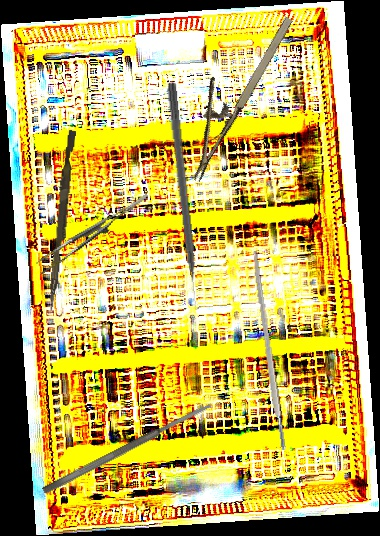Needle Holder: (160, 0, 299, 183)
Pusher: (164, 81, 201, 311), (48, 129, 76, 313)
Scalpel Handle: (250, 250, 287, 451)
Spatula Surgical: (41, 400, 214, 496)
Tissue Forceps: (29, 193, 159, 275)
